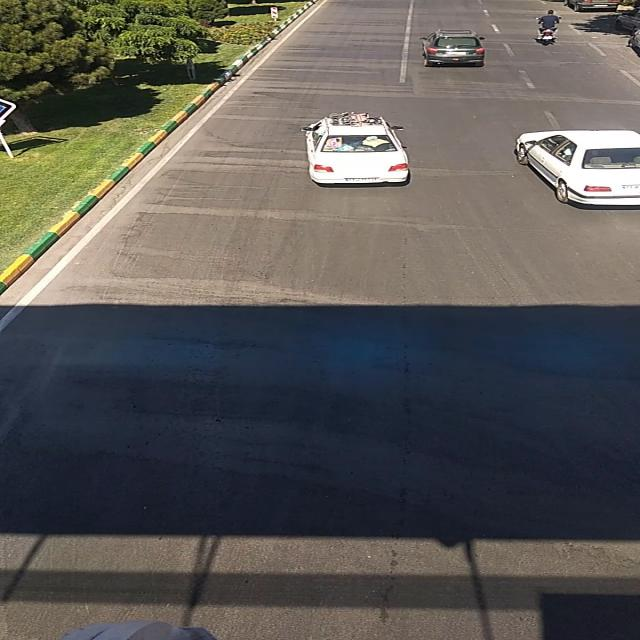car: (509, 128, 639, 210), (300, 118, 415, 188), (413, 29, 490, 69), (563, 1, 621, 10)
motorbike: (537, 10, 562, 44)
